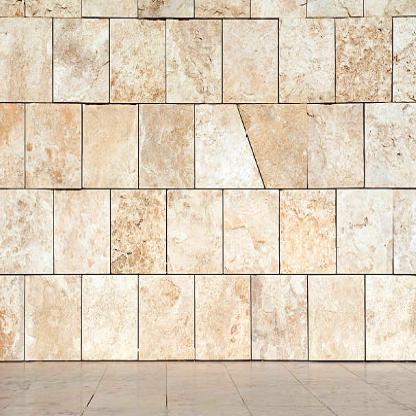Sedimentary_Sandstone: (329, 176, 401, 296), (19, 86, 90, 198), (217, 5, 287, 115), (190, 97, 268, 191), (330, 11, 400, 108), (105, 180, 172, 279), (136, 87, 199, 192), (46, 11, 116, 105), (51, 183, 116, 282), (161, 179, 228, 275), (249, 264, 312, 362), (78, 97, 142, 191), (21, 269, 84, 363), (223, 175, 281, 277), (106, 11, 170, 103), (193, 262, 253, 360), (304, 99, 369, 189), (361, 88, 416, 194), (308, 264, 367, 362), (78, 273, 140, 363), (136, 268, 197, 359)
